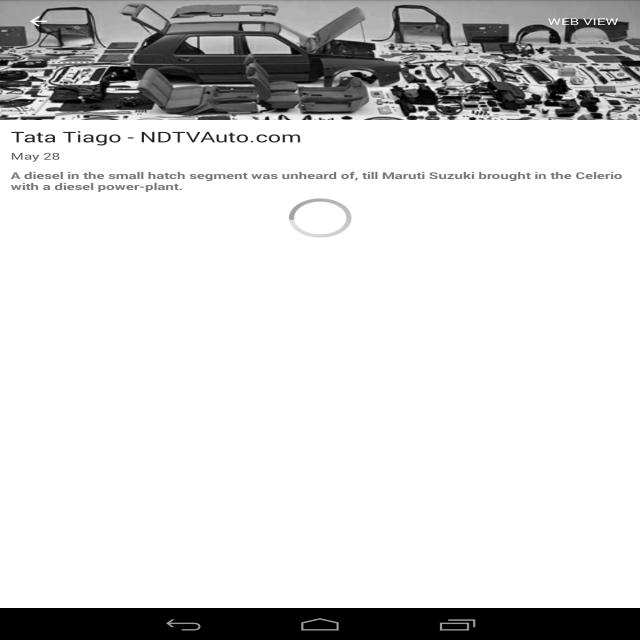ImageButton: (9, 0, 68, 43)
ImageView: (0, 0, 640, 225)
ProgressBar: (280, 193, 360, 243), (0, 120, 640, 123)
TextView: (11, 169, 634, 193), (11, 127, 629, 146), (11, 250, 629, 263), (0, 150, 640, 162), (535, 5, 631, 38)
